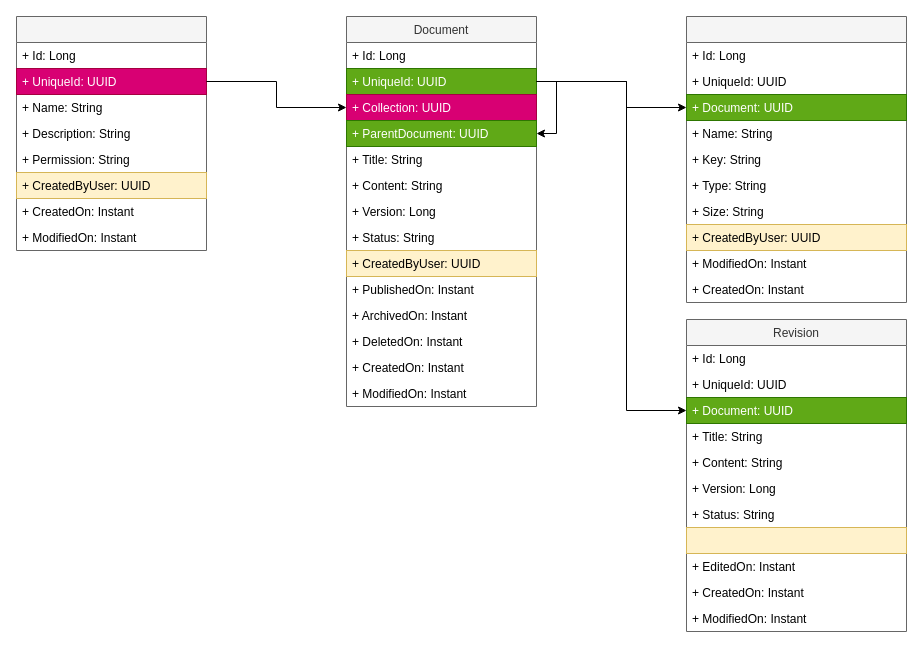
Image size: 923x648. Some labels were removed from this diagram. Here are the shapes that lost their labels. From the top down, the box of each, then its label:
(16, 16, 206, 250): Collection
(686, 16, 906, 302): Attachment
(686, 526, 906, 554): + EditedByUser: UUID
